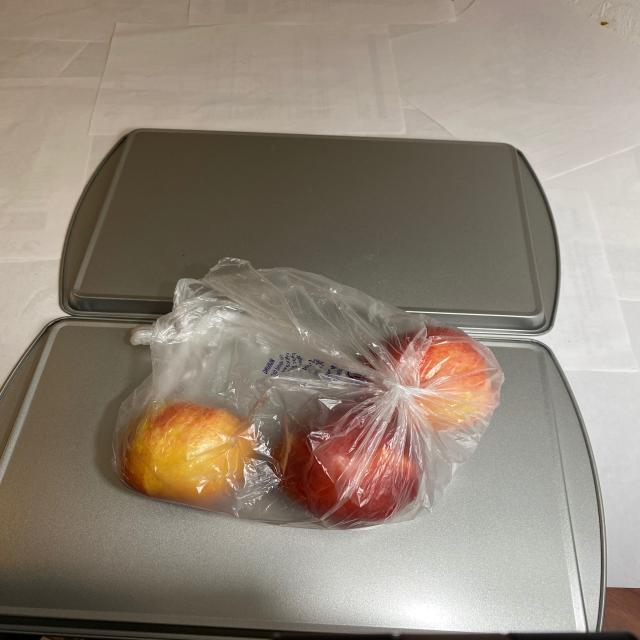apple: (109, 321, 512, 526)
